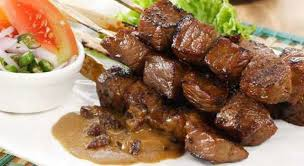sate: (82, 4, 304, 163)
